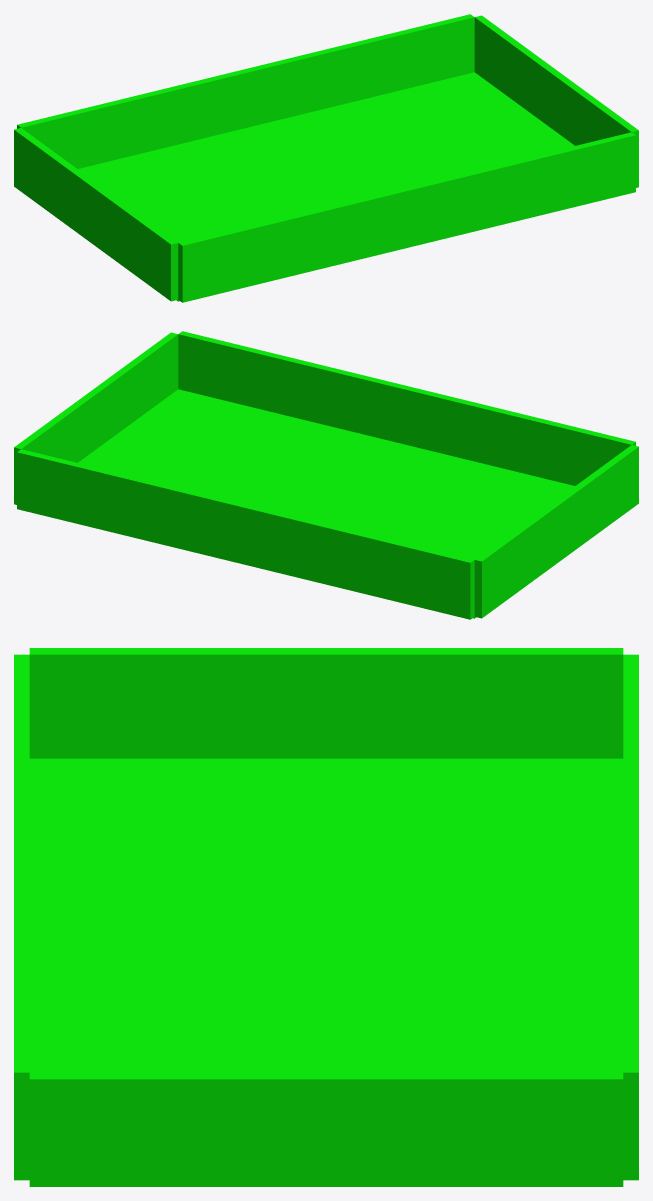
The model's file is grand-hall.collision.glb.
3 renders of one model, top to bottom at view 1: azimuth 30°, elevation 25°; view 2: azimuth 150°, elevation 25°; view 3: azimuth 270°, elevation 25°, orthographic. The views are drawn at different scales.
Parts seen in each view (by area): view 1: floor_collision_proxy, south_wall_collision_proxy, north_wall_collision_proxy, west_wall_collision_proxy, east_wall_collision_proxy; view 2: floor_collision_proxy, north_wall_collision_proxy, south_wall_collision_proxy, west_wall_collision_proxy, east_wall_collision_proxy; view 3: floor_collision_proxy, east_wall_collision_proxy, west_wall_collision_proxy, north_wall_collision_proxy, south_wall_collision_proxy.
Part boxes in pixels (x1=…): floor_collision_proxy: x1=78, y1=72, x2=574, y2=301; south_wall_collision_proxy: x1=178, y1=132, x2=635, y2=302; north_wall_collision_proxy: x1=17, y1=14, x2=474, y2=168; west_wall_collision_proxy: x1=14, y1=128, x2=178, y2=301; east_wall_collision_proxy: x1=474, y1=15, x2=638, y2=187; floor_collision_proxy: x1=78, y1=389, x2=574, y2=618; north_wall_collision_proxy: x1=17, y1=449, x2=474, y2=619; south_wall_collision_proxy: x1=178, y1=331, x2=635, y2=485; west_wall_collision_proxy: x1=474, y1=445, x2=638, y2=618; east_wall_collision_proxy: x1=14, y1=332, x2=178, y2=504; floor_collision_proxy: x1=29, y1=758, x2=623, y2=1072; east_wall_collision_proxy: x1=29, y1=1072, x2=623, y2=1186; west_wall_collision_proxy: x1=29, y1=648, x2=623, y2=758; north_wall_collision_proxy: x1=623, y1=654, x2=638, y2=1180; south_wall_collision_proxy: x1=14, y1=654, x2=29, y2=1180.
Size of the model in its own units: 25.8 by 3.1 by 15.8.
